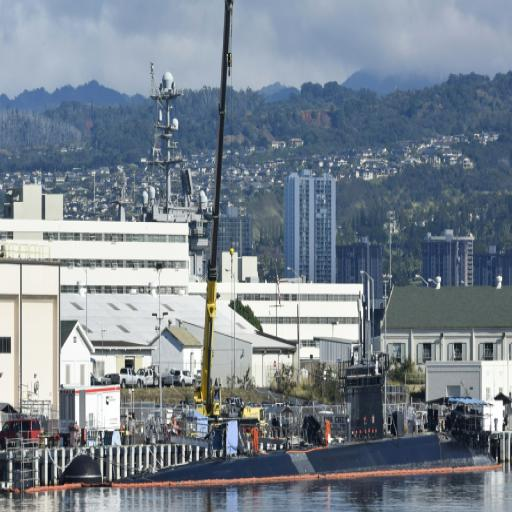submarine: (58, 373, 496, 486)
